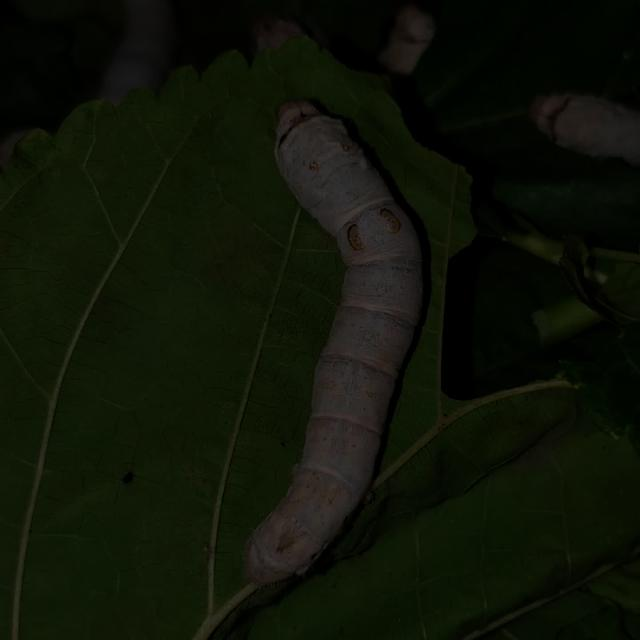Healthy: (228, 64, 461, 622)
